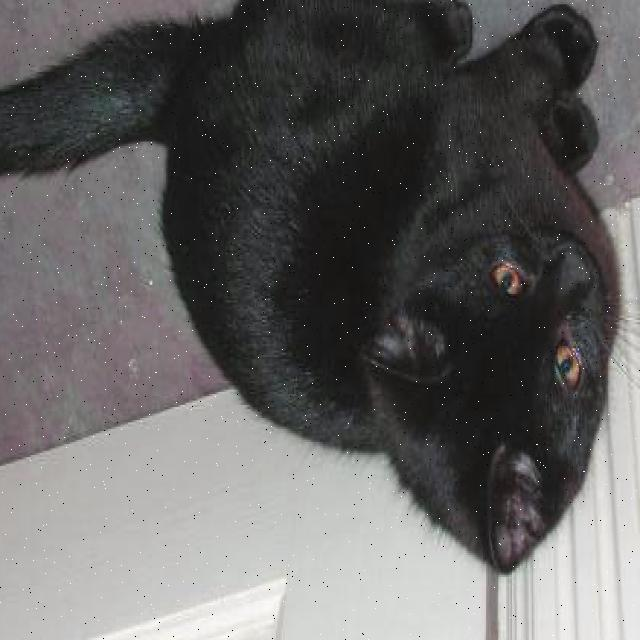Cat: (366, 186, 621, 572)
